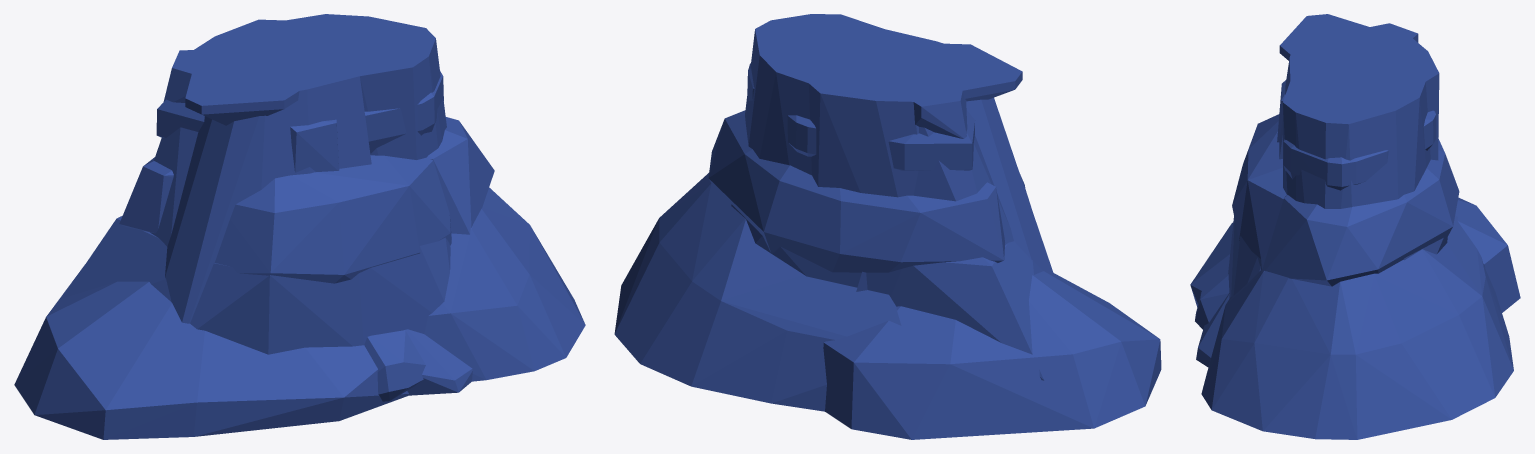
The model's file is Cliff_Plateau_01_Taper_Collider_01.FBX.
3 renders of one model, left to right at view 1: azimuth 30°, elevation 25°; view 2: azimuth 150°, elevation 25°; view 3: azimuth 270°, elevation 25°, orthographic. The views are drawn at different scales.
Visible parts, largest first — view 1: COLLIDER6, COLLIDER1, COLLIDER13, COLLIDER5, COLLIDER8, COLLIDER4, COLLIDER7, COLLIDER10, COLLIDER3, COLLIDER12, COLLIDER2, COLLIDER9 (+2 smaller); view 2: COLLIDER6, COLLIDER8, COLLIDER7, COLLIDER1, COLLIDER13, COLLIDER4, COLLIDER10, COLLIDER2, COLLIDER3, COLLIDER14; view 3: COLLIDER8, COLLIDER4, COLLIDER7, COLLIDER1, COLLIDER5, COLLIDER6, COLLIDER10, COLLIDER13, COLLIDER3, COLLIDER12, COLLIDER9, COLLIDER14.
Part boxes in pixels (x1=…): COLLIDER6: x1=14, y1=265, x2=408, y2=439; COLLIDER1: x1=165, y1=19, x2=371, y2=323; COLLIDER13: x1=62, y1=216, x2=450, y2=354; COLLIDER5: x1=214, y1=155, x2=451, y2=283; COLLIDER8: x1=424, y1=187, x2=585, y2=381; COLLIDER4: x1=286, y1=14, x2=446, y2=159; COLLIDER7: x1=119, y1=117, x2=494, y2=234; COLLIDER10: x1=156, y1=71, x2=443, y2=153; COLLIDER3: x1=185, y1=71, x2=304, y2=125; COLLIDER12: x1=364, y1=330, x2=425, y2=401; COLLIDER2: x1=150, y1=51, x2=217, y2=246; COLLIDER9: x1=403, y1=329, x2=472, y2=395; COLLIDER6: x1=823, y1=271, x2=1161, y2=439; COLLIDER8: x1=614, y1=173, x2=901, y2=411; COLLIDER7: x1=708, y1=110, x2=1004, y2=272; COLLIDER1: x1=809, y1=29, x2=1054, y2=275; COLLIDER13: x1=731, y1=190, x2=1044, y2=380; COLLIDER4: x1=745, y1=14, x2=884, y2=175; COLLIDER10: x1=747, y1=63, x2=974, y2=170; COLLIDER2: x1=856, y1=80, x2=1013, y2=291; COLLIDER3: x1=932, y1=43, x2=1022, y2=101; COLLIDER14: x1=906, y1=88, x2=967, y2=138; COLLIDER8: x1=1201, y1=215, x2=1513, y2=439; COLLIDER4: x1=1283, y1=81, x2=1430, y2=208; COLLIDER7: x1=1261, y1=138, x2=1459, y2=286; COLLIDER1: x1=1279, y1=31, x2=1439, y2=160; COLLIDER5: x1=1232, y1=114, x2=1286, y2=269; COLLIDER6: x1=1190, y1=197, x2=1520, y2=312; COLLIDER10: x1=1283, y1=110, x2=1436, y2=190; COLLIDER13: x1=1228, y1=216, x2=1447, y2=298; COLLIDER3: x1=1279, y1=14, x2=1373, y2=60; COLLIDER12: x1=1195, y1=274, x2=1229, y2=329; COLLIDER9: x1=1196, y1=293, x2=1229, y2=367; COLLIDER14: x1=1369, y1=23, x2=1418, y2=42.
Bounding box in the file's own units: 1256 × 661 × 765.
